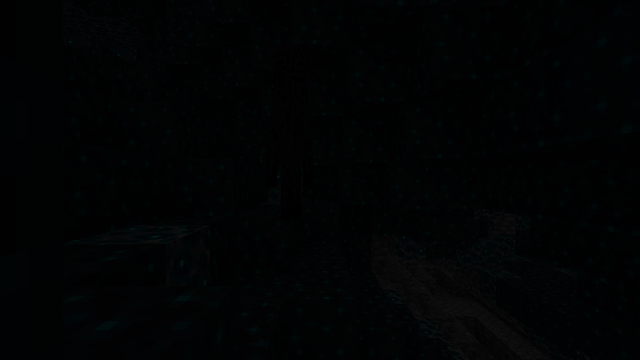endermens: (271, 40, 309, 217)
